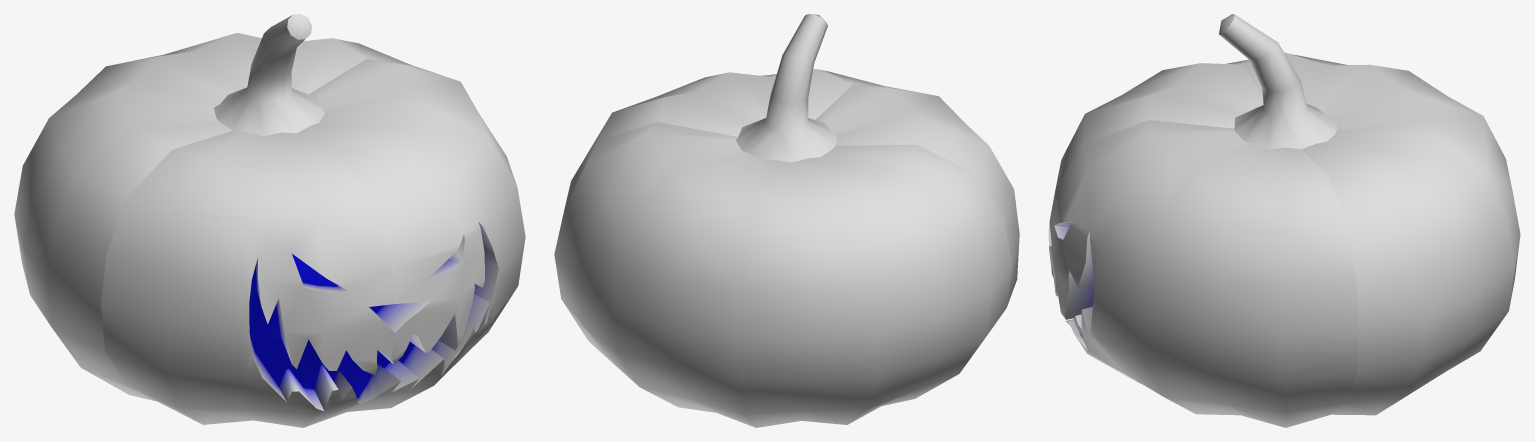
The model's file is PumpkinFace01HR.fbx.
3 views of the same model, side by side, from view 1: azimuth 30°, elevation 25°; view 2: azimuth 150°, elevation 25°; view 3: azimuth 270°, elevation 25° (orthographic). The views are drawn at different scales.
Visible parts, largest first — view 1: PumpkinFace01HR; view 2: PumpkinFace01HR; view 3: PumpkinFace01HR.
Boxes of the visible parts, x1,y1,x2,y2 form: PumpkinFace01HR: (14, 14, 525, 427); PumpkinFace01HR: (554, 14, 1019, 427); PumpkinFace01HR: (1048, 14, 1520, 427).
Size of the model in its own units: 66.75 by 54.29 by 64.97.
